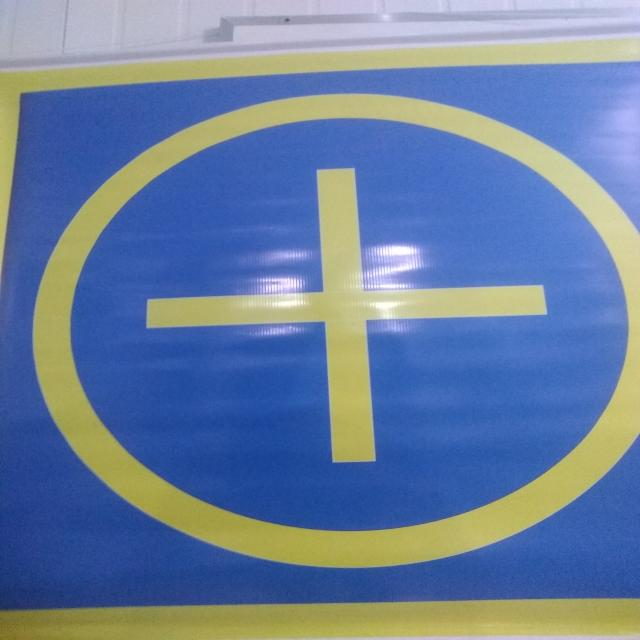circulo-com-sinal-positivo: (0, 69, 640, 637)
